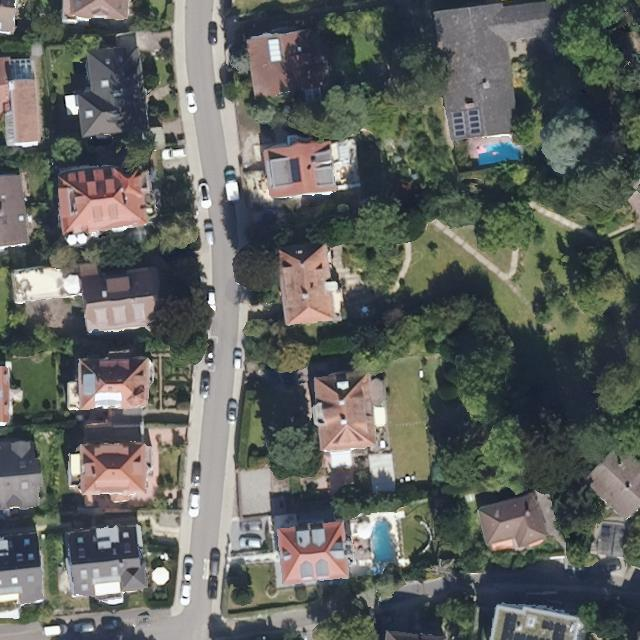PV: (452, 110, 466, 138), (468, 109, 482, 135)
